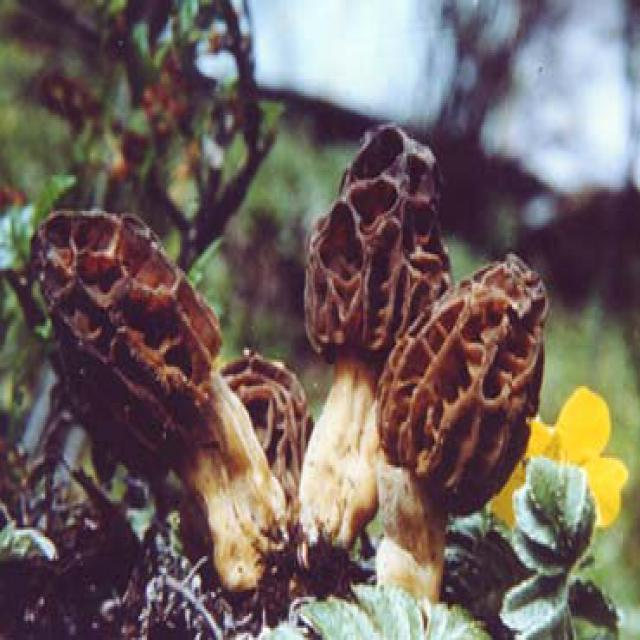Morchella esculenta: (32, 212, 289, 593), (311, 122, 450, 586), (374, 256, 545, 591)
